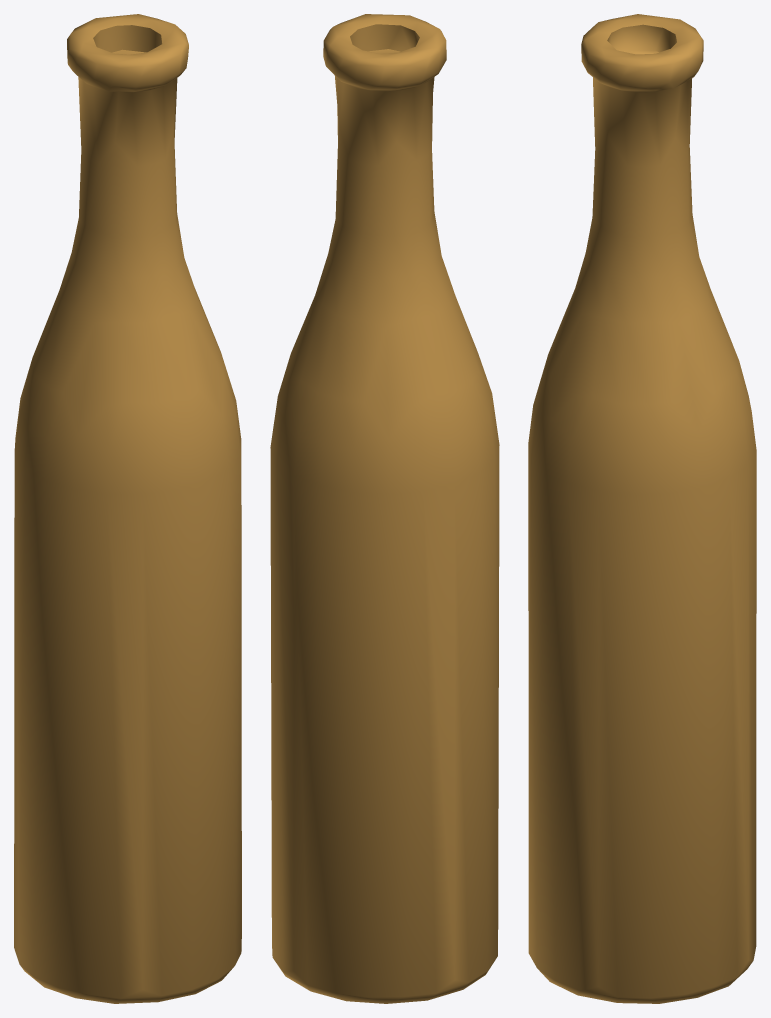
File: SM_GlassBottle_LOD2.fbx
The picture shows the model from 3 angles, left to right: view 1: azimuth 30°, elevation 25°; view 2: azimuth 150°, elevation 25°; view 3: azimuth 270°, elevation 25°; orthographic projection.
Visible parts, largest first — view 1: SM_GlassBottle_LOD2; view 2: SM_GlassBottle_LOD2; view 3: SM_GlassBottle_LOD2.
Part boxes in pixels (x1,y1,x2,y2): SM_GlassBottle_LOD2: (14, 14, 241, 1003); SM_GlassBottle_LOD2: (270, 14, 499, 1003); SM_GlassBottle_LOD2: (528, 14, 756, 1003).
Size of the model in its own units: 6.27 by 6.27 by 28.02.
